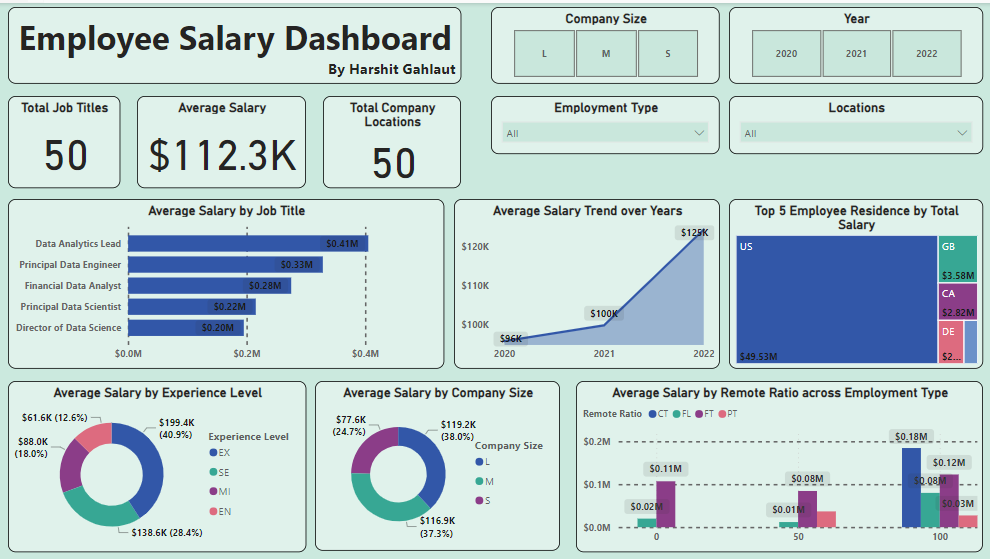

This screenshot's page, from the dashboard's own definition file:
{"tool":"powerbi","page":{"name":"Page 1","canvas":[1280,720],"ordinal":0},"visuals":[{"type":"textbox","box":[10.3,5.2,584.5,99.4],"z":0},{"type":"card","title":"Total Job Titles","fields":{"Values":["Count(salaries.job_title)"]},"box":[10.3,120,144.5,118.7],"z":1000},{"type":"card","title":"Average Salary","fields":{"Values":["Avg(salaries.salary_in_usd)"]},"box":[176.8,120,218.1,118.7],"z":2000},{"type":"card","title":"Total Company Locations","fields":{"Values":["Count(salaries.company_location)"]},"box":[416.8,120,178.1,118.7],"z":3000},{"type":"slicer","title":"Year","fields":{"Values":["salaries.work_year"]},"box":[940.6,5.2,327.7,99.4],"z":4000},{"type":"slicer","title":"Company Size","fields":{"Values":["salaries.company_size"]},"box":[633.5,5.2,295.5,99.4],"z":5000},{"type":"barChart","title":"Average Salary by Job Title","fields":{"Category":["salaries.job_title"],"Y":["Avg(salaries.salary_in_usd)"]},"box":[10.3,252.9,562.6,219.4],"z":6000},{"type":"donutChart","title":"Average Salary by Company Size","fields":{"Category":["salaries.company_size"],"Y":["Avg(salaries.salary_in_usd)"]},"box":[406.5,487.7,316.1,219.4],"z":7000},{"type":"slicer","title":"Locations","fields":{"Values":["salaries.company_location"]},"box":[940.6,120,327.7,74.8],"z":8000},{"type":"donutChart","title":"Average Salary by Experience Level","fields":{"Y":["Avg(salaries.salary_in_usd)"],"Category":["salaries.experience_level"]},"box":[10.3,487.7,384.5,220.6],"z":9000},{"type":"slicer","title":"Employment Type","fields":{"Values":["salaries.employment_type"]},"box":[633.5,120,295.5,74.8],"z":10000},{"type":"areaChart","title":"Average Salary Trend over Years","fields":{"Category":["salaries.work_year"],"Y":["Avg(salaries.salary_in_usd)"]},"box":[585.8,252.9,343.2,219.4],"z":11000},{"type":"treemap","title":"Top 5 Employee Residence by Total Salary","fields":{"Group":["salaries.employee_residence"],"Values":["Sum(salaries.salary_in_usd)"]},"box":[940.6,252.9,327.7,219.4],"z":12000},{"type":"clusteredColumnChart","title":"Average Salary by Remote Ratio across Employment Type","fields":{"Category":["salaries.remote_ratio"],"Y":["Avg(salaries.salary_in_usd)"],"Series":["salaries.employment_type"]},"box":[743.2,487.7,525.2,220.6],"z":13000}]}

Visuals, with their boxes in screenshot pixels (x1, y1, x2, y2), scaled from the page's 1280x720 canvas onto the 990x559 screenshot:
textbox: bbox=[8, 4, 460, 81]
"Total Job Titles" card: bbox=[8, 93, 120, 185]
"Average Salary" card: bbox=[137, 93, 305, 185]
"Total Company Locations" card: bbox=[322, 93, 460, 185]
"Year" slicer: bbox=[727, 4, 981, 81]
"Company Size" slicer: bbox=[490, 4, 719, 81]
"Average Salary by Job Title" barChart: bbox=[8, 196, 443, 367]
"Average Salary by Company Size" donutChart: bbox=[314, 379, 559, 549]
"Locations" slicer: bbox=[727, 93, 981, 151]
"Average Salary by Experience Level" donutChart: bbox=[8, 379, 305, 550]
"Employment Type" slicer: bbox=[490, 93, 719, 151]
"Average Salary Trend over Years" areaChart: bbox=[453, 196, 719, 367]
"Top 5 Employee Residence by Total Salary" treemap: bbox=[727, 196, 981, 367]
"Average Salary by Remote Ratio across Employment Type" clusteredColumnChart: bbox=[575, 379, 981, 550]
